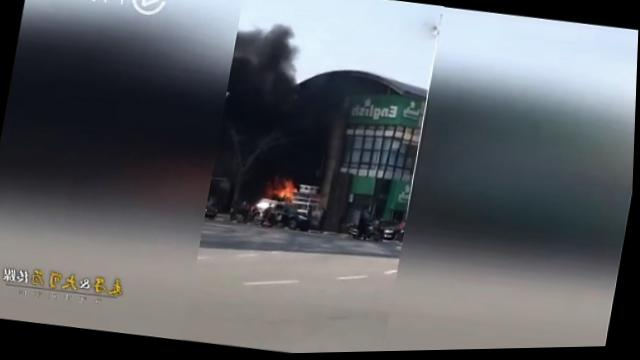fire: (275, 178, 299, 201)
